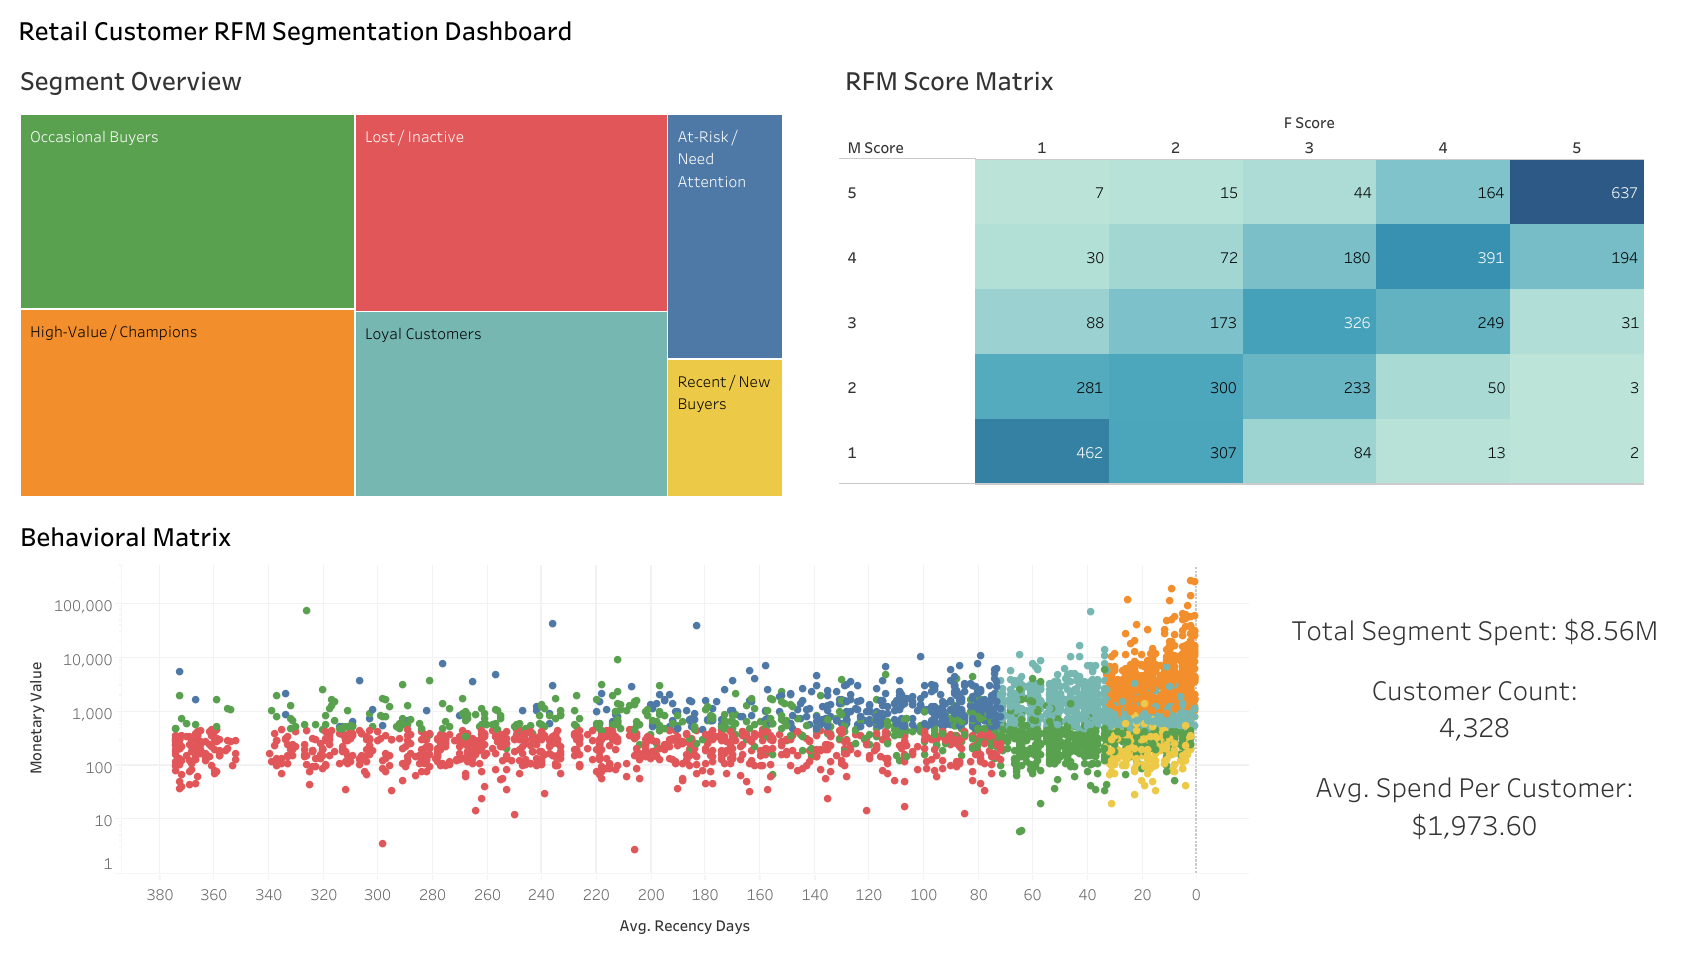

Layout of this report page (visuals, bound fields, positions):
{"tool":"tableau","page":{"name":"Dashboard 1","canvas":[1366,768],"ordinal":0},"visuals":[{"type":"text","box":[8,8,1350,32]},{"type":"worksheet","title":"Customer Segment Treemap","mark":"Automatic","box":[8,40,660,365]},{"type":"worksheet","title":"RFM Grid Heatmap","mark":"Square","rows":["m_score"],"cols":["f_score"],"box":[668,40,685,365]},{"type":"worksheet","title":"Recency vs. Spend Scatter Plot","mark":"Automatic","rows":["Monetary_Value"],"cols":["Recency_Days"],"box":[8,405,995,355]},{"type":"worksheet","title":"Execuive KPI Cards","mark":"Text","box":[1003,405,355,355]}]}

Visuals, with their boxes in screenshot pixels (x1, y1, x2, y2), scaled from the page's 1366x768 canvas onto the 1706x959 screenshot:
text: box=[10, 10, 1696, 50]
"Customer Segment Treemap" worksheet: box=[10, 50, 834, 506]
"RFM Grid Heatmap" worksheet (Square marks): box=[834, 50, 1690, 506]
"Recency vs. Spend Scatter Plot" worksheet: box=[10, 506, 1253, 949]
"Execuive KPI Cards" worksheet (Text marks): box=[1253, 506, 1696, 949]
